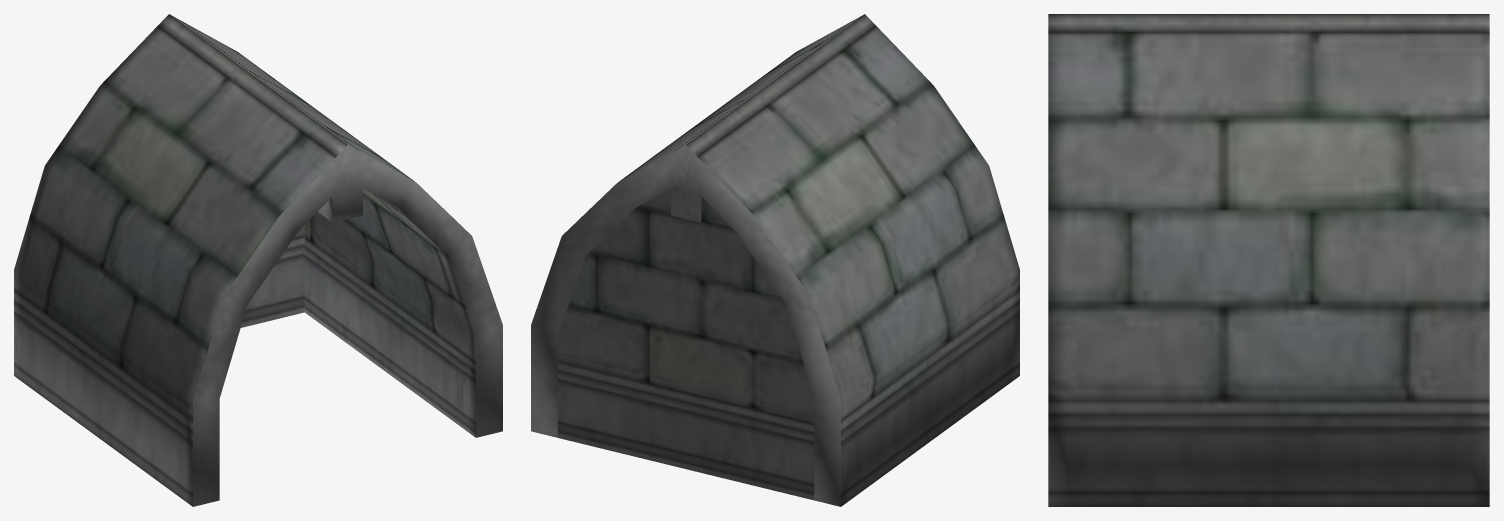
Rendered from sd_barrel_ceiling_small_02.glb.
3 views of the same model, side by side, from view 1: azimuth 30°, elevation 25°; view 2: azimuth 150°, elevation 25°; view 3: azimuth 270°, elevation 25° (orthographic). The views are drawn at different scales.
Parts seen in each view (by area): view 1: barrel_ceiling_small_02; view 2: barrel_ceiling_small_02; view 3: barrel_ceiling_small_02.
Part boxes in pixels (x1,y1,x2,y2): barrel_ceiling_small_02: (14,14,502,506); barrel_ceiling_small_02: (531,14,1019,506); barrel_ceiling_small_02: (1048,14,1489,506).
Size of the model in its own units: 2 by 2 by 2.
1 material, 1 textured.
